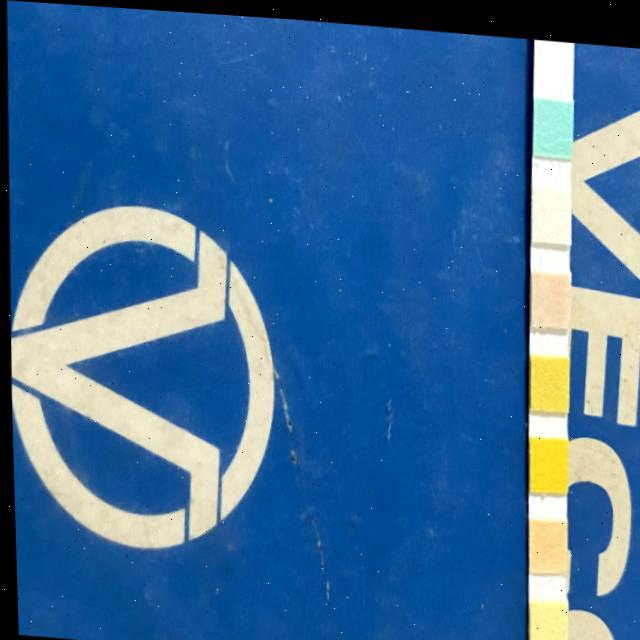Bilirubin: (530, 183, 566, 234)
Blood: (526, 430, 562, 485)
Glucose: (533, 93, 570, 149)
Ketone: (528, 265, 566, 318)
Protein: (524, 597, 560, 640)
SpGravity: (528, 352, 564, 403)
pH: (525, 516, 561, 564)
